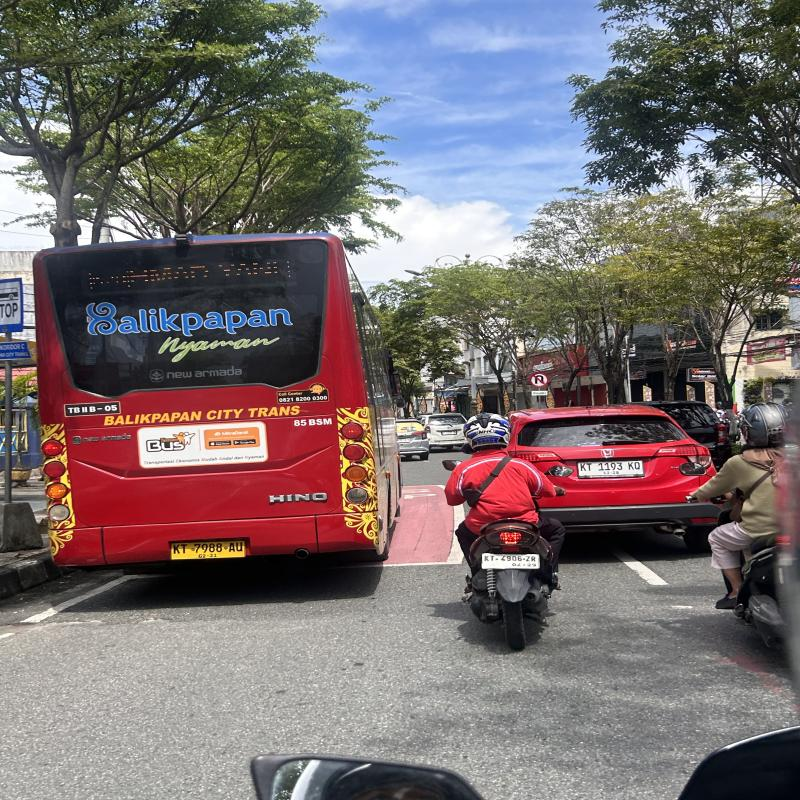license plate on a car: (168, 538, 248, 562), (576, 461, 645, 479)
